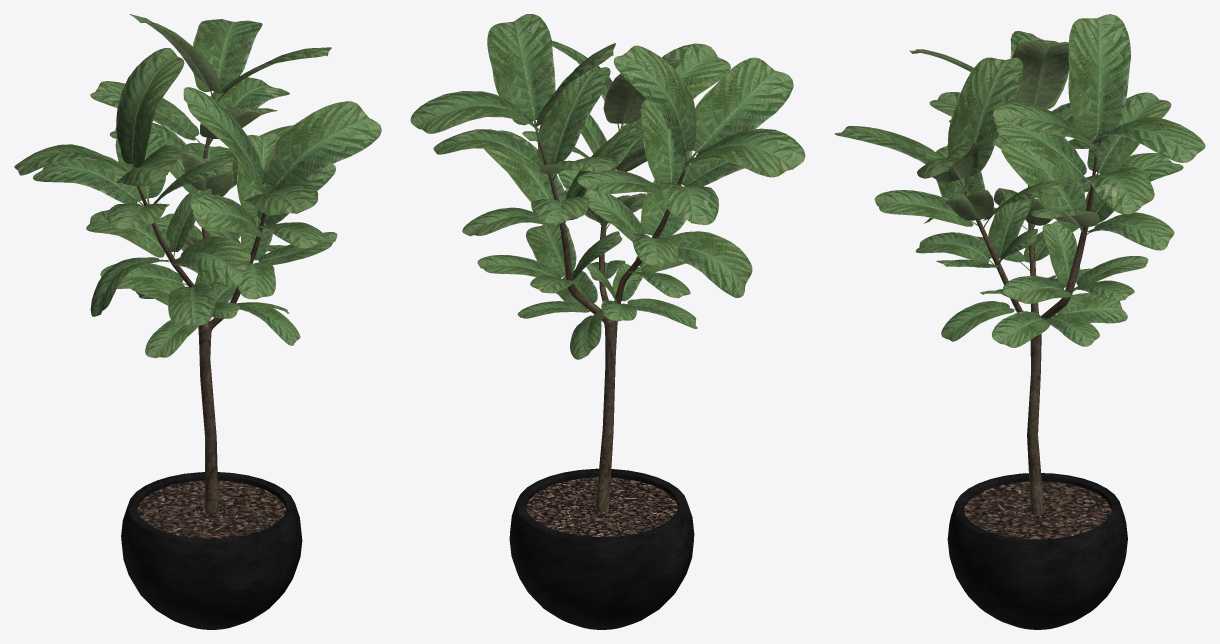
File: floor_plant.fbx
3 views of the same model, side by side, from view 1: azimuth 30°, elevation 25°; view 2: azimuth 150°, elevation 25°; view 3: azimuth 270°, elevation 25° (orthographic). The views are drawn at different scales.
Parts seen in each view (by area): view 1: flower; view 2: flower; view 3: flower.
Part boxes in pixels (x1=…): flower: x1=14, y1=14, x2=381, y2=629; flower: x1=410, y1=14, x2=805, y2=629; flower: x1=834, y1=14, x2=1205, y2=629.
Size of the model in its own units: 94.78 by 168 by 97.52.
